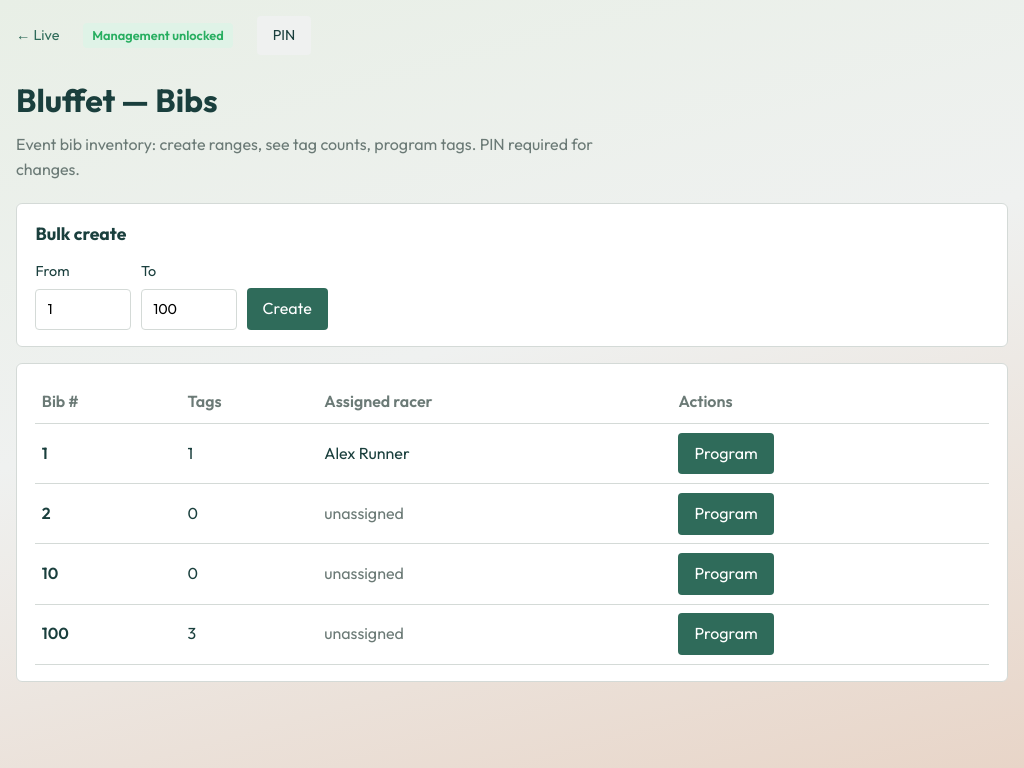
Test: EventBibs.vue › shows write success message after programming a tag
Click the 2nd button with test id "bib-program-tag": (726, 514) top-left (678, 493), bottom-right (774, 535)
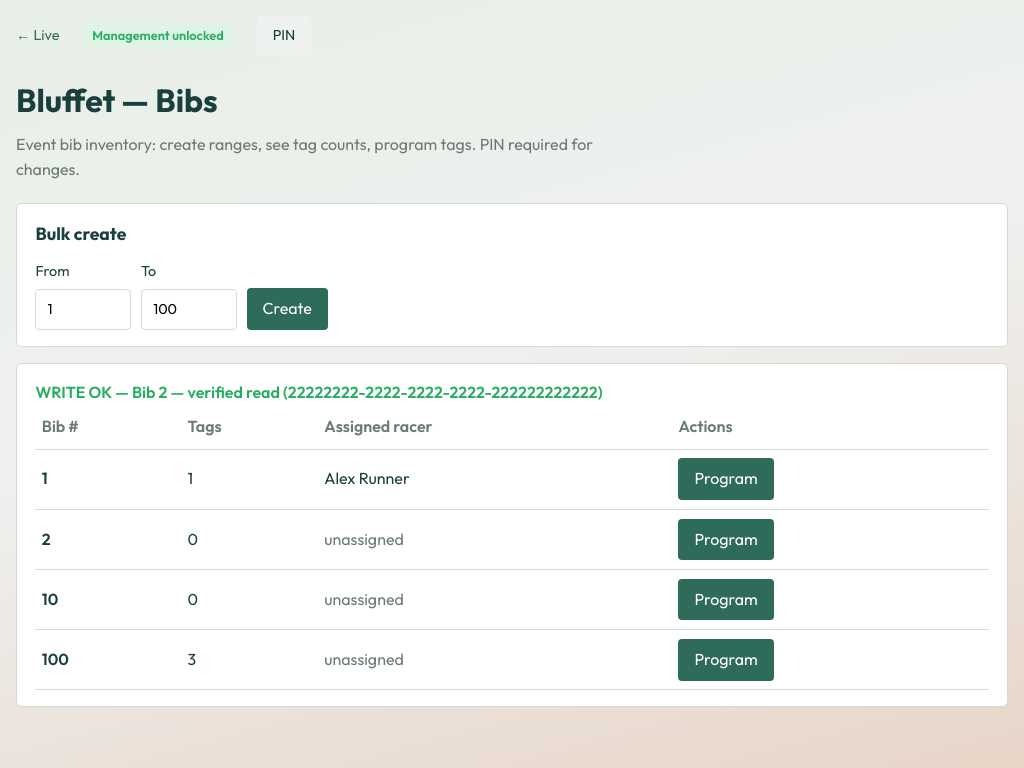
Now the message with test id "bib-program-success" shows "WRITE OK — Bib 2", box top-left (35, 382), bottom-right (603, 402)
Now the message with test id "bib-program-success" shows "verified read", box top-left (35, 382), bottom-right (603, 402)
